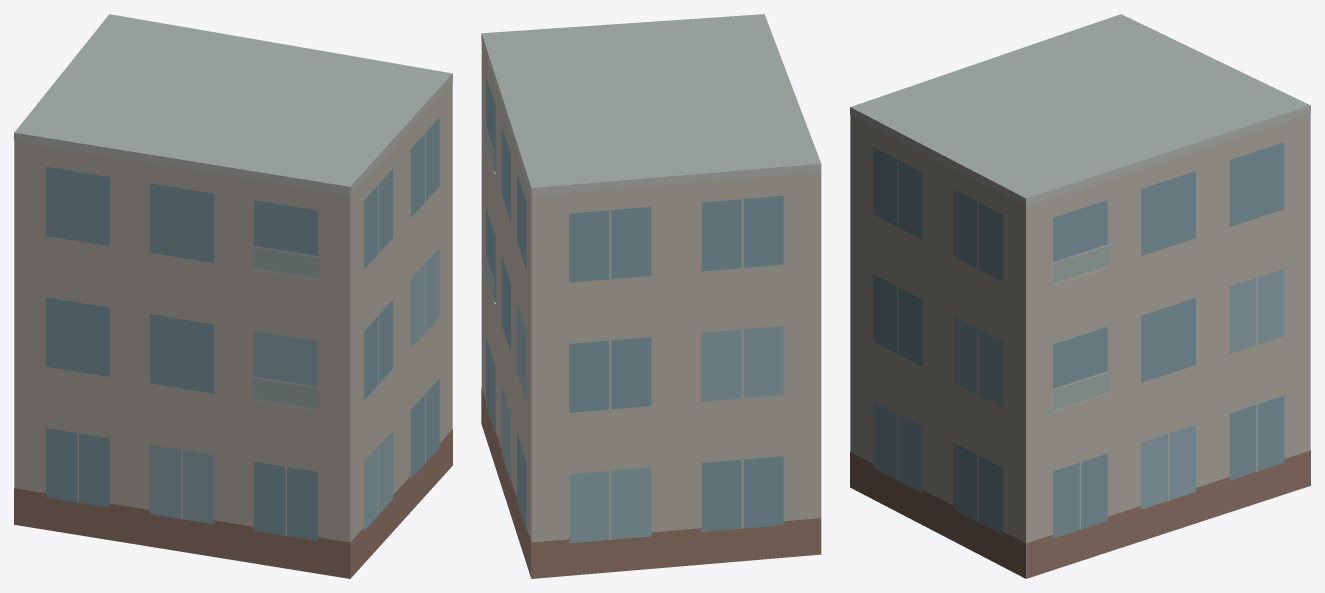
Rendered from survey-upis-32671386.glb.
The picture shows the model from 3 angles, left to right: view 1: azimuth 30°, elevation 25°; view 2: azimuth 150°, elevation 25°; view 3: azimuth 270°, elevation 25°; orthographic projection. The views are drawn at different scales.
Parts seen in each view (by area): view 1: survey-upis-32671386.tmp; view 2: survey-upis-32671386.tmp; view 3: survey-upis-32671386.tmp.
Part boxes in pixels (x1,y1,x2,y2): survey-upis-32671386.tmp: (14, 14, 452, 578); survey-upis-32671386.tmp: (481, 14, 821, 578); survey-upis-32671386.tmp: (850, 14, 1310, 578).
Size of the model in its own units: 12.28 by 11.8 by 12.96.
